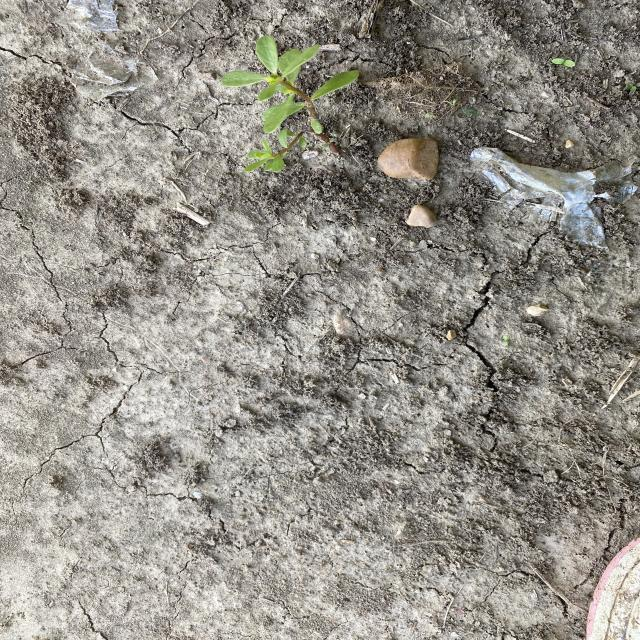Purslane: (218, 33, 362, 175)
